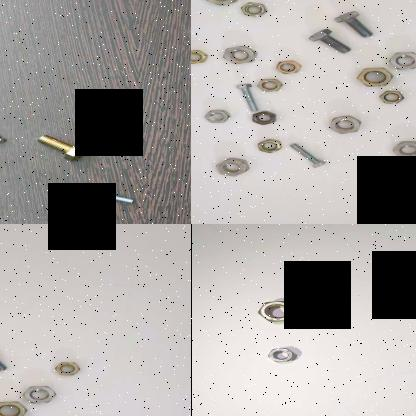Bolts: (28, 136, 96, 164), (328, 10, 376, 39), (284, 142, 328, 172), (304, 27, 350, 55), (86, 184, 133, 206), (232, 82, 266, 112), (0, 343, 18, 373), (0, 115, 7, 146)
NUTS: (254, 300, 302, 326), (353, 66, 397, 92), (211, 158, 254, 180), (220, 44, 258, 67), (327, 115, 359, 136), (21, 384, 53, 404), (53, 362, 87, 380), (239, 0, 269, 20), (386, 51, 416, 71), (390, 139, 416, 162), (254, 135, 281, 155), (376, 88, 406, 106), (256, 74, 282, 94), (272, 59, 304, 75), (0, 397, 25, 416), (201, 109, 230, 124), (249, 111, 278, 125), (191, 50, 210, 65), (199, 0, 237, 6)
